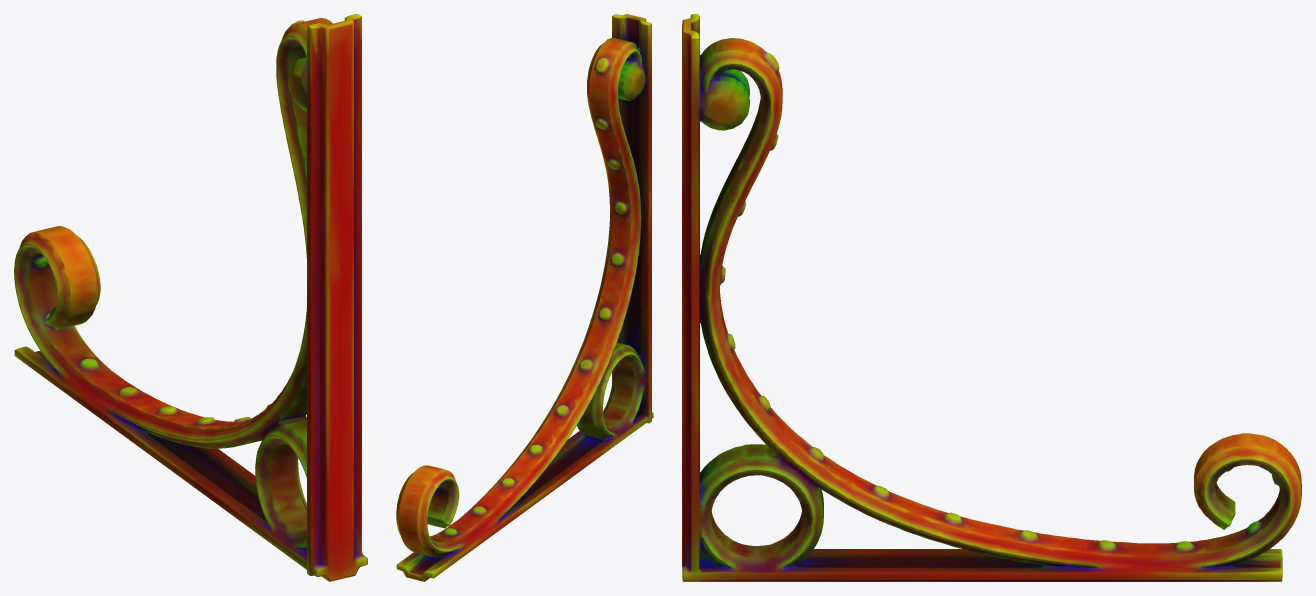
Rendered from RoofSpiral.fbx.
3 views of the same model, side by side, from view 1: azimuth 30°, elevation 25°; view 2: azimuth 150°, elevation 25°; view 3: azimuth 270°, elevation 25° (orthographic). The views are drawn at different scales.
Visible parts, largest first — view 1: transform1; view 2: transform1; view 3: transform1.
Part boxes in pixels (x1,y1,x2,y2): transform1: (14, 14, 367, 581); transform1: (396, 14, 653, 581); transform1: (682, 14, 1301, 581).
Bounding box in the file's own units: 20.62 × 207 × 203.
